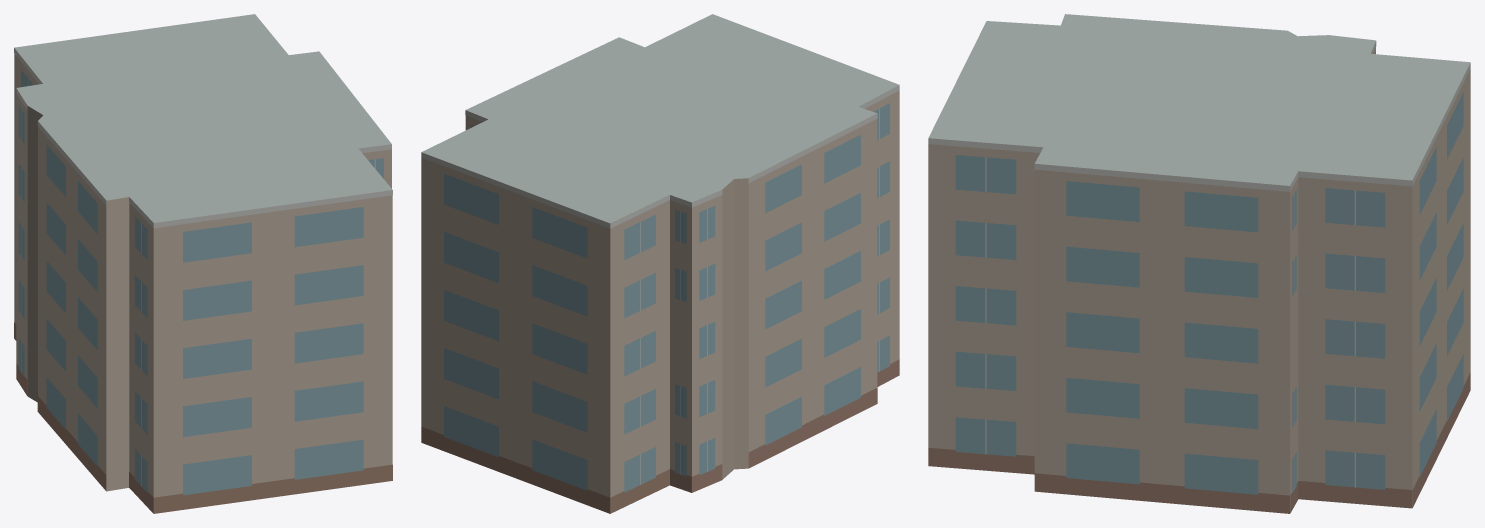
Rendered from survey-upis-32861474.glb.
The picture shows the model from 3 angles, left to right: view 1: azimuth 30°, elevation 25°; view 2: azimuth 150°, elevation 25°; view 3: azimuth 270°, elevation 25°; orthographic projection. The views are drawn at different scales.
Visible parts, largest first — view 1: survey-upis-32861474.tmp; view 2: survey-upis-32861474.tmp; view 3: survey-upis-32861474.tmp.
Boxes of the visible parts, x1,y1,x2,y2 form: survey-upis-32861474.tmp: (14,14,392,513); survey-upis-32861474.tmp: (421,14,899,513); survey-upis-32861474.tmp: (928,14,1470,513).
Bounding box in the file's own units: 15.26 × 13.55 × 20.33.
